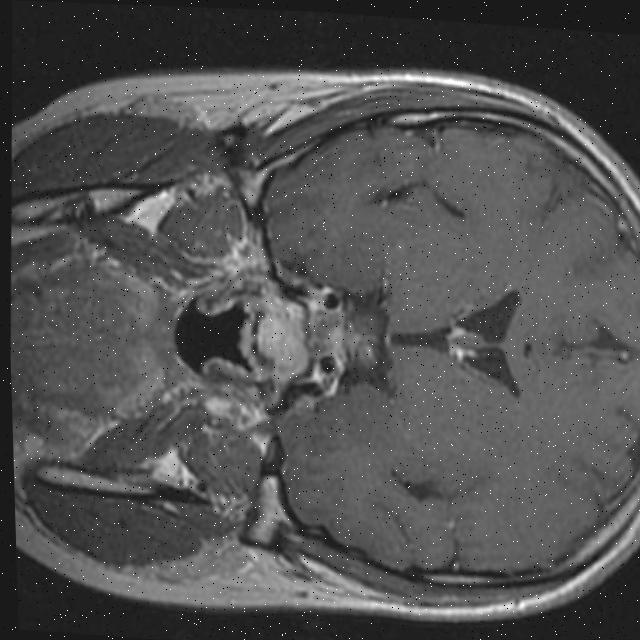Pituitary: (254, 303, 308, 368), (304, 306, 362, 361)
